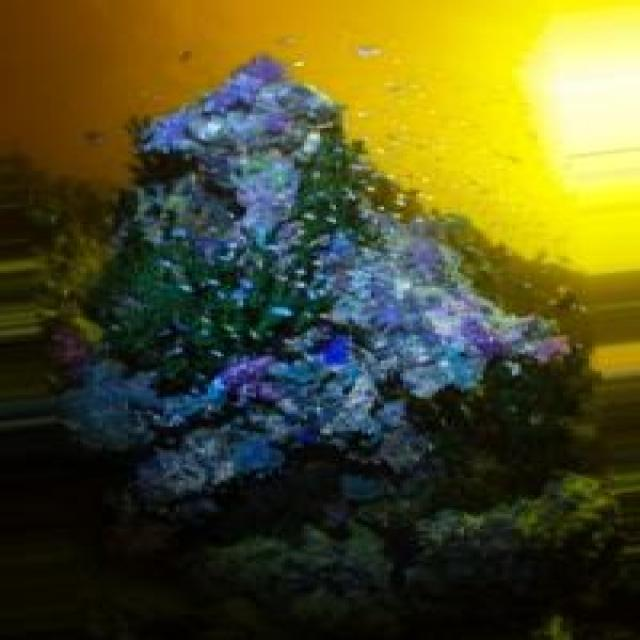Healthy: (68, 56, 593, 598)
